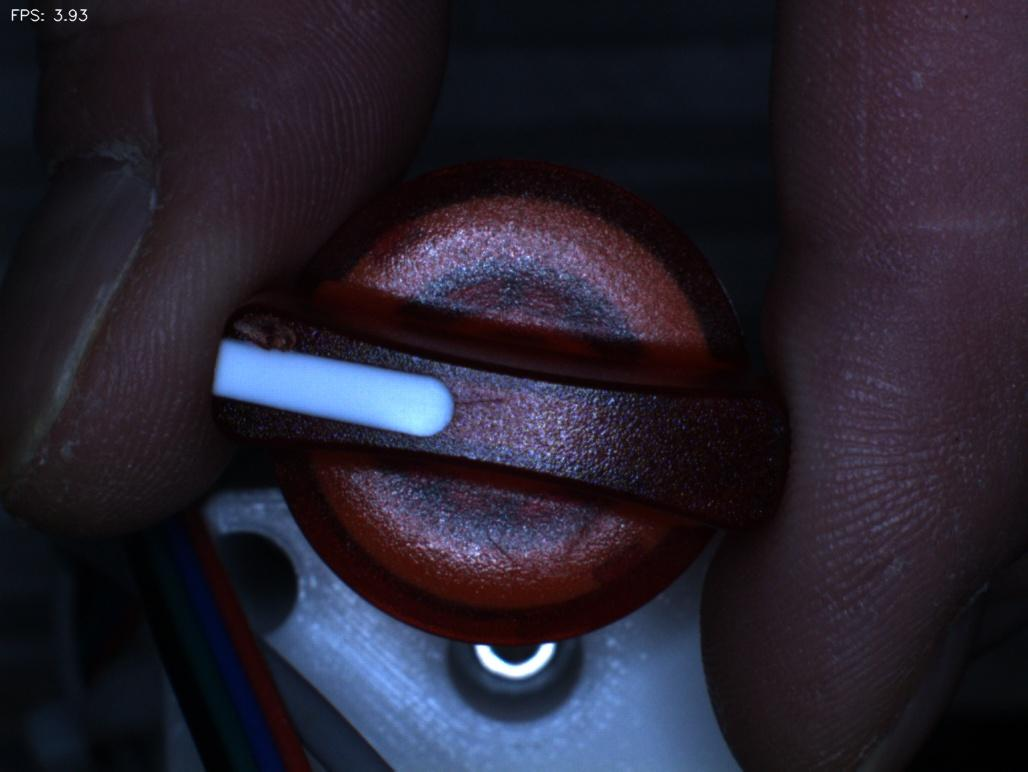Choc: (213, 284, 313, 378)
